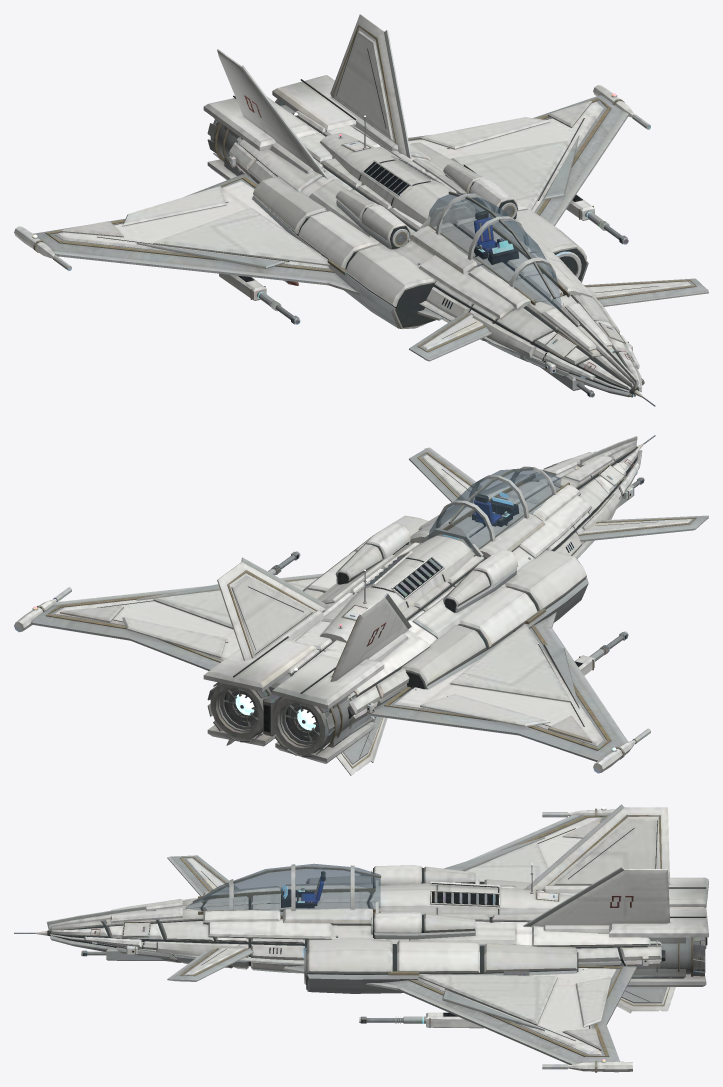
File: lance_fighter.glb
3 views of the same model, one above another, from view 1: azimuth 30°, elevation 25°; view 2: azimuth 150°, elevation 25°; view 3: azimuth 270°, elevation 25° (orthographic). The views are drawn at different scales.
Visible parts, largest first — view 1: lance_fighter_hull, lance_fighter_glass; view 2: lance_fighter_hull, lance_fighter_glass, lance_fighter_plasma; view 3: lance_fighter_hull, lance_fighter_glass.
Boxes of the visible parts, x1=… form: lance_fighter_hull: x1=14, y1=14, x2=708, y2=406; lance_fighter_glass: x1=428, y1=193, x2=561, y2=309; lance_fighter_hull: x1=14, y1=435, x2=708, y2=775; lance_fighter_glass: x1=428, y1=469, x2=561, y2=553; lance_fighter_plasma: x1=235, y1=694, x2=315, y2=730; lance_fighter_hull: x1=14, y1=804, x2=708, y2=1072; lance_fighter_glass: x1=186, y1=864, x2=380, y2=914.
Bounding box in the file's own units: 11.86 × 3.24 × 13.55.
Materials: 3 (1 with a texture image).
